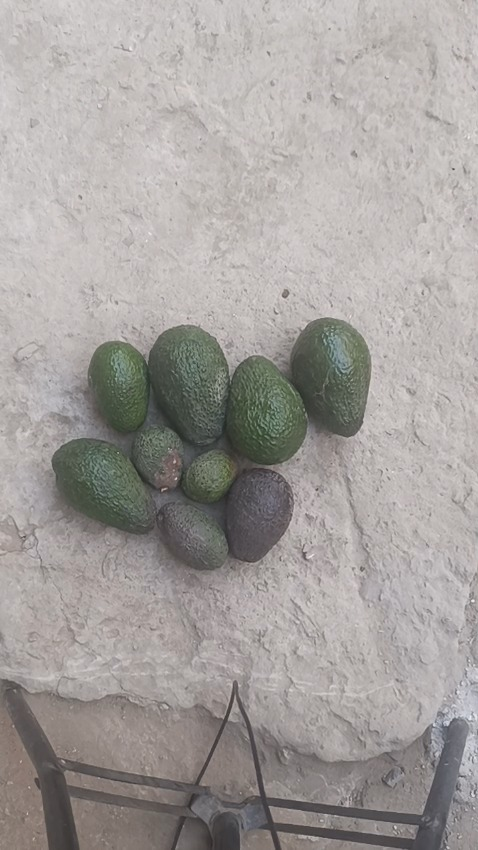Primera: (51, 438, 156, 535), (148, 323, 231, 445), (290, 317, 370, 436), (224, 355, 308, 464)
Segunda: (224, 468, 294, 563), (87, 340, 149, 434)
Tercera: (155, 499, 230, 570), (131, 423, 185, 491), (181, 449, 239, 504)
